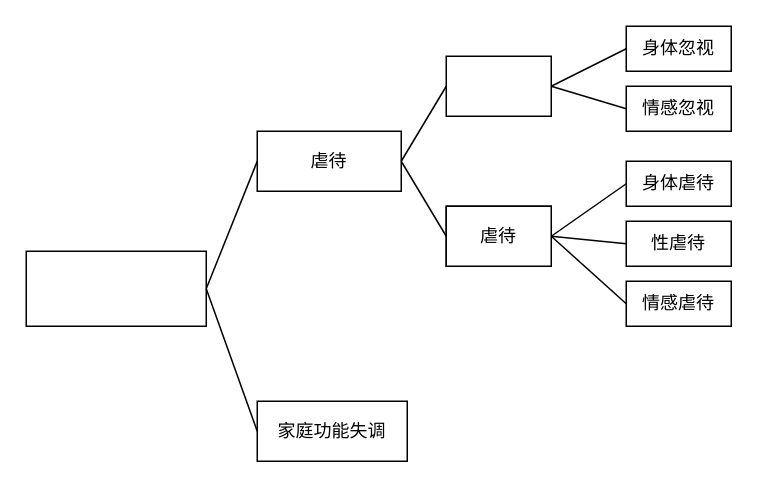
The diagram is 758 pixels wide and 488 high, and some of its shapes have lost their labels. Here are the shapes that lost their labels. From the top down, the centre of each, then its label:
(x=498, y=85): 忽视
(x=115, y=288): 童年期不良经历(ACEs )
